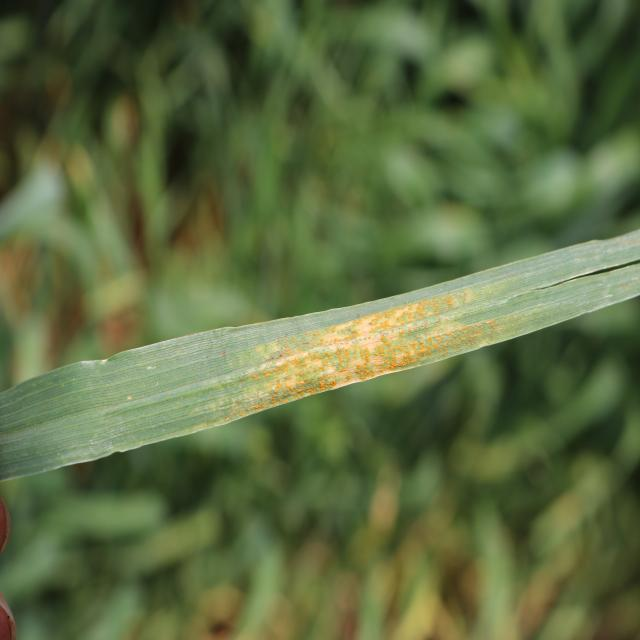Stripe Rust: (238, 281, 501, 418)
